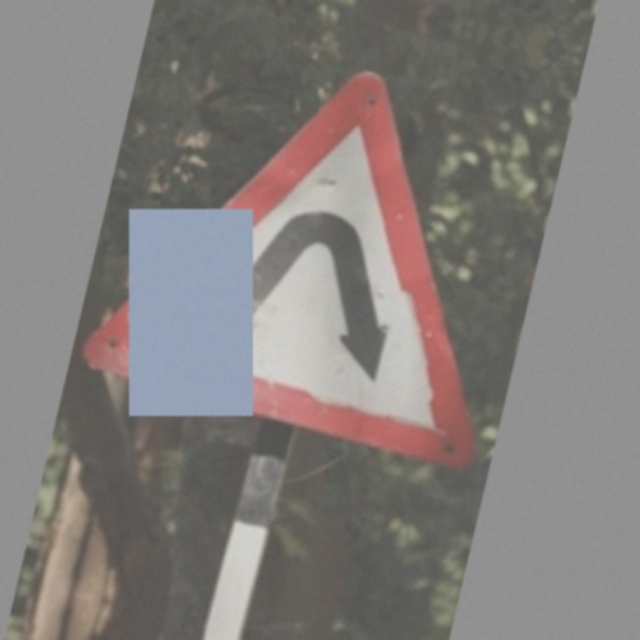Right_Hair_Pin_Bend: (91, 23, 538, 464)
